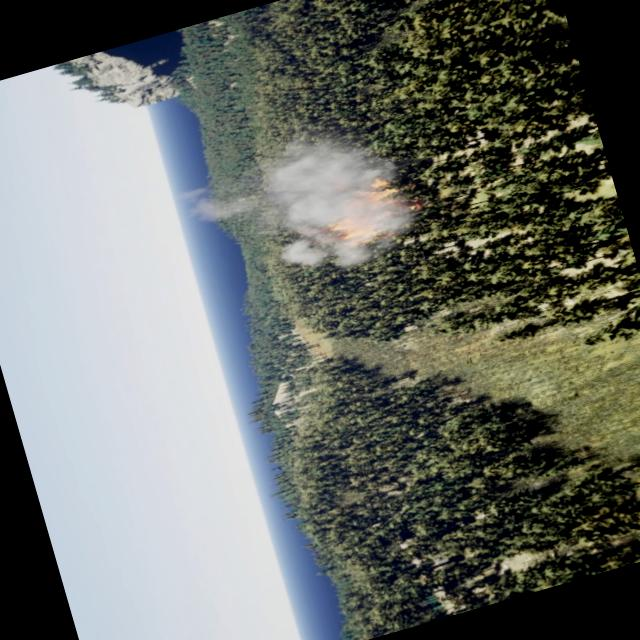fire: (314, 168, 424, 255)
smoke: (169, 117, 423, 306)
